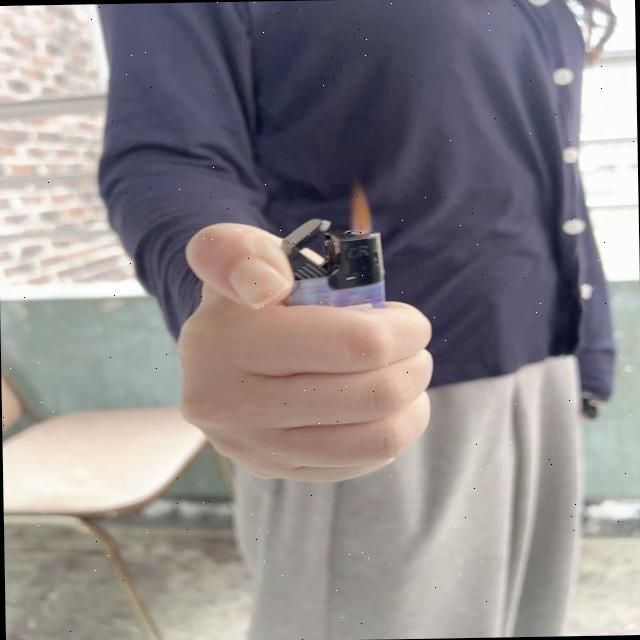fire: (346, 186, 374, 237)
